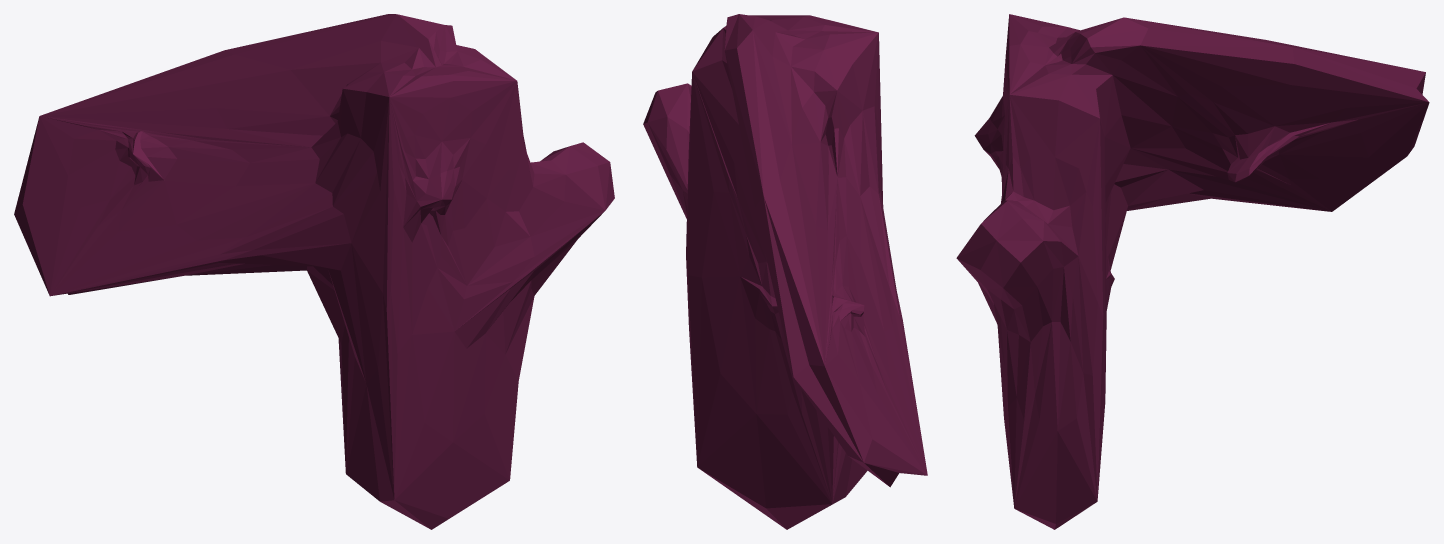
The picture shows the model from 3 angles, left to right: view 1: azimuth 30°, elevation 25°; view 2: azimuth 150°, elevation 25°; view 3: azimuth 270°, elevation 25°; orthographic projection. The views are drawn at different scales.
Parts seen in each view (by area): view 1: 007_Cube.039; view 2: 007_Cube.039; view 3: 007_Cube.039.
Boxes of the visible parts, box(x1,y1,x2,y2) form: 007_Cube.039: box(14, 14, 614, 529); 007_Cube.039: box(643, 14, 927, 529); 007_Cube.039: box(956, 14, 1429, 529).
Bounding box in the file's own units: 10.97 × 12.65 × 10.6.
